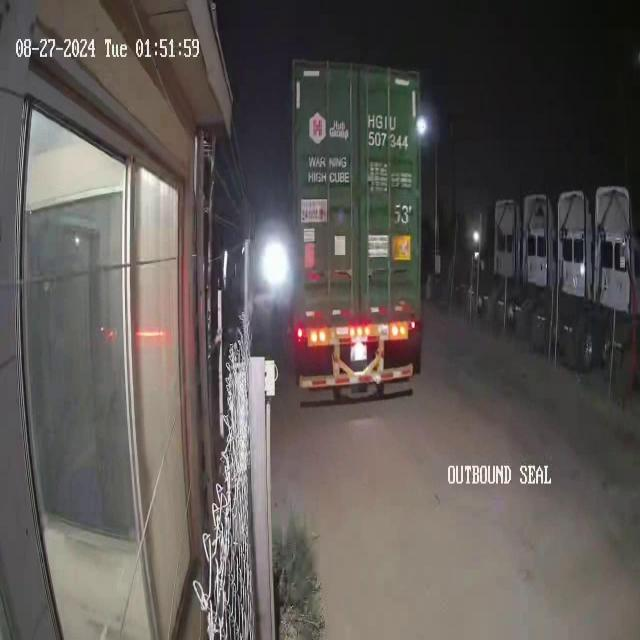TRUCK_OUT: (288, 56, 424, 394)
